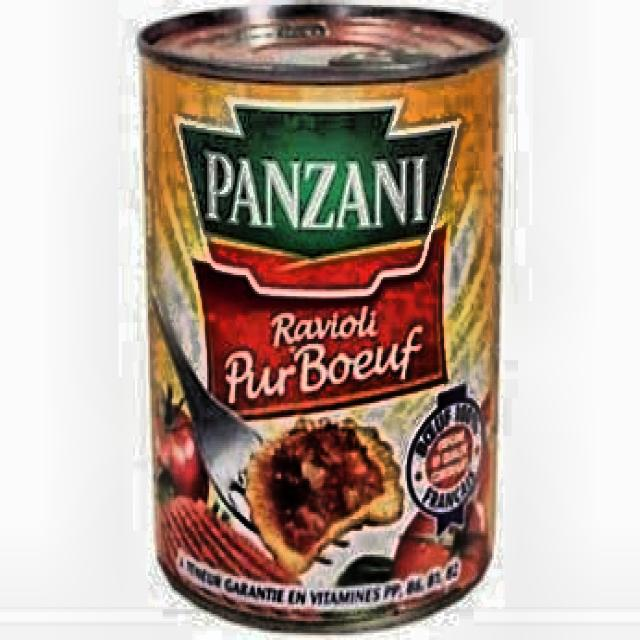Cans: (144, 2, 510, 640)
